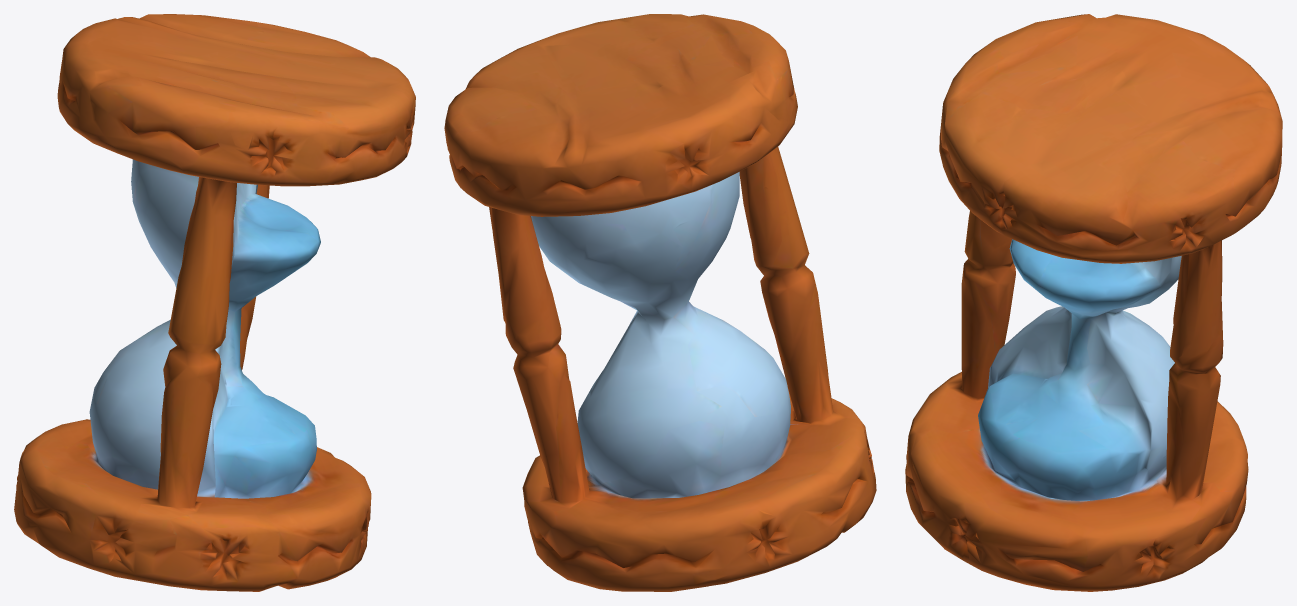
The model's file is hourglass.glb.
The picture shows the model from 3 angles, left to right: view 1: azimuth 30°, elevation 25°; view 2: azimuth 150°, elevation 25°; view 3: azimuth 270°, elevation 25°; orthographic projection. The views are drawn at different scales.
Parts seen in each view (by area): view 1: tripo_node_a3afdff8-997e-49bf-b86e-dc0fb5e8dc45; view 2: tripo_node_a3afdff8-997e-49bf-b86e-dc0fb5e8dc45; view 3: tripo_node_a3afdff8-997e-49bf-b86e-dc0fb5e8dc45.
Part boxes in pixels (<box>): tripo_node_a3afdff8-997e-49bf-b86e-dc0fb5e8dc45: <box>14,14,415,591</box>; tripo_node_a3afdff8-997e-49bf-b86e-dc0fb5e8dc45: <box>444,14,876,591</box>; tripo_node_a3afdff8-997e-49bf-b86e-dc0fb5e8dc45: <box>905,14,1282,591</box>.
Size of the model in its own units: 0.7773 by 1 by 0.7096.
1 material, 1 textured.
